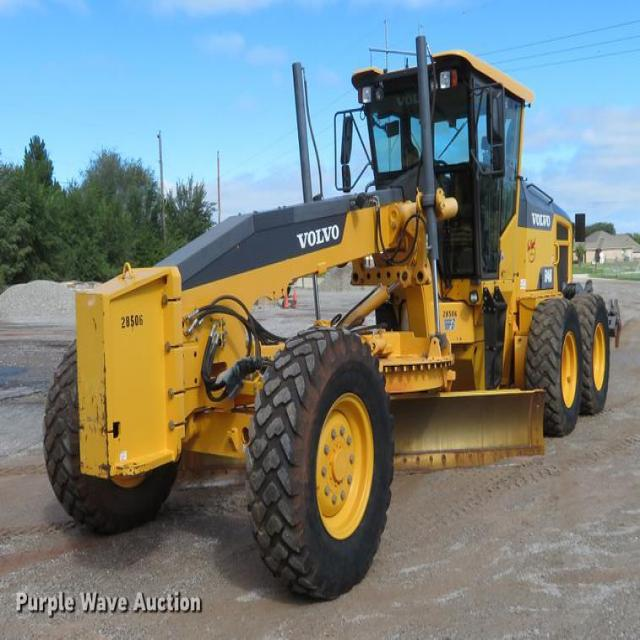Grader: (36, 25, 626, 595)
